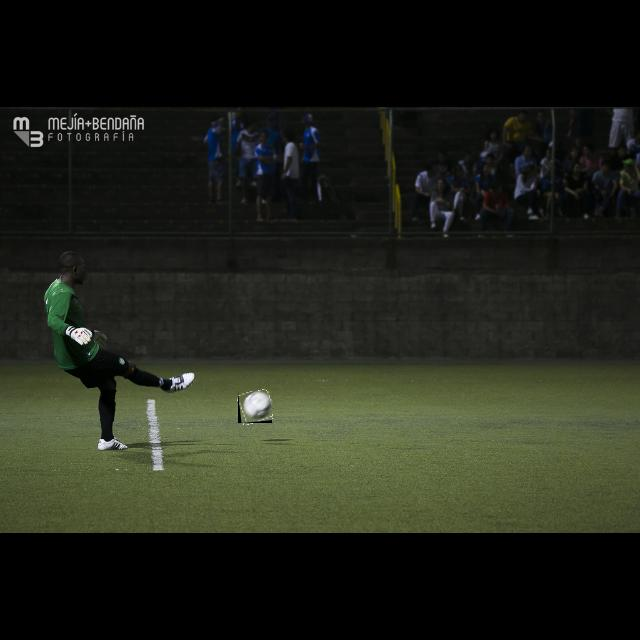Football: (238, 391, 272, 423)
